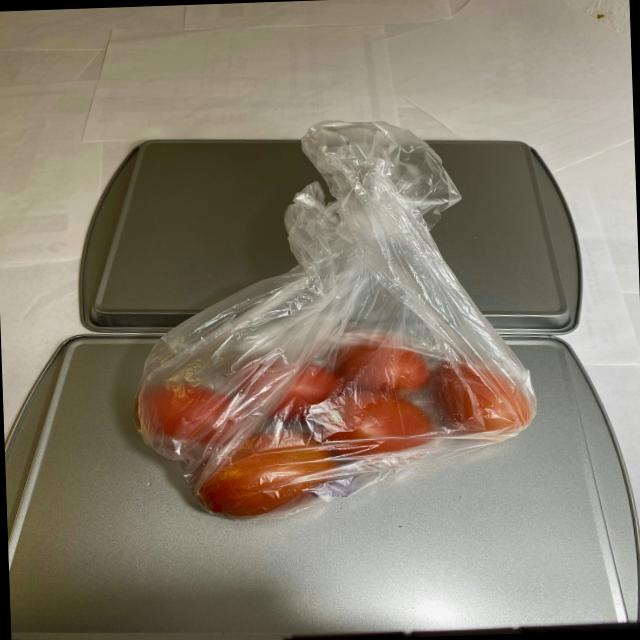tomato: (127, 337, 543, 522)
